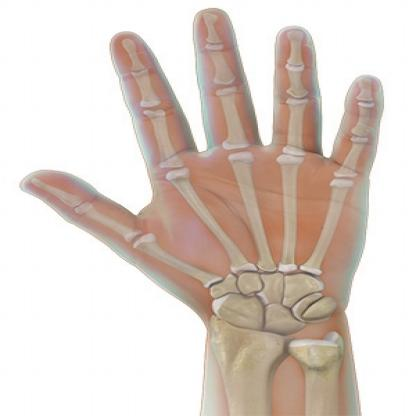palm: (19, 4, 389, 319)
